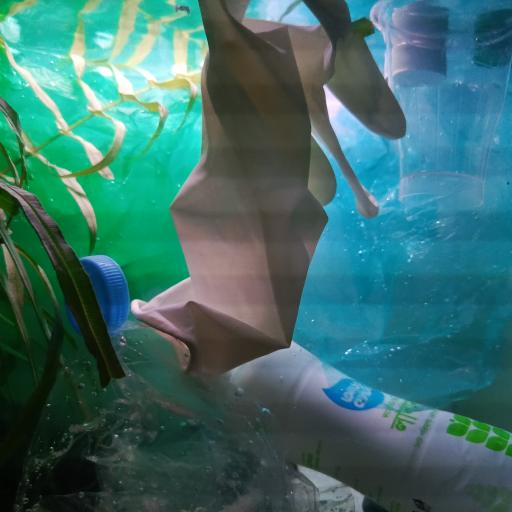bottle_cap: (65, 254, 126, 334), (388, 44, 446, 86)
glove: (131, 0, 408, 379), (131, 0, 406, 379)
plastic_bag: (312, 65, 512, 409), (20, 326, 356, 512), (1, 31, 204, 298)
